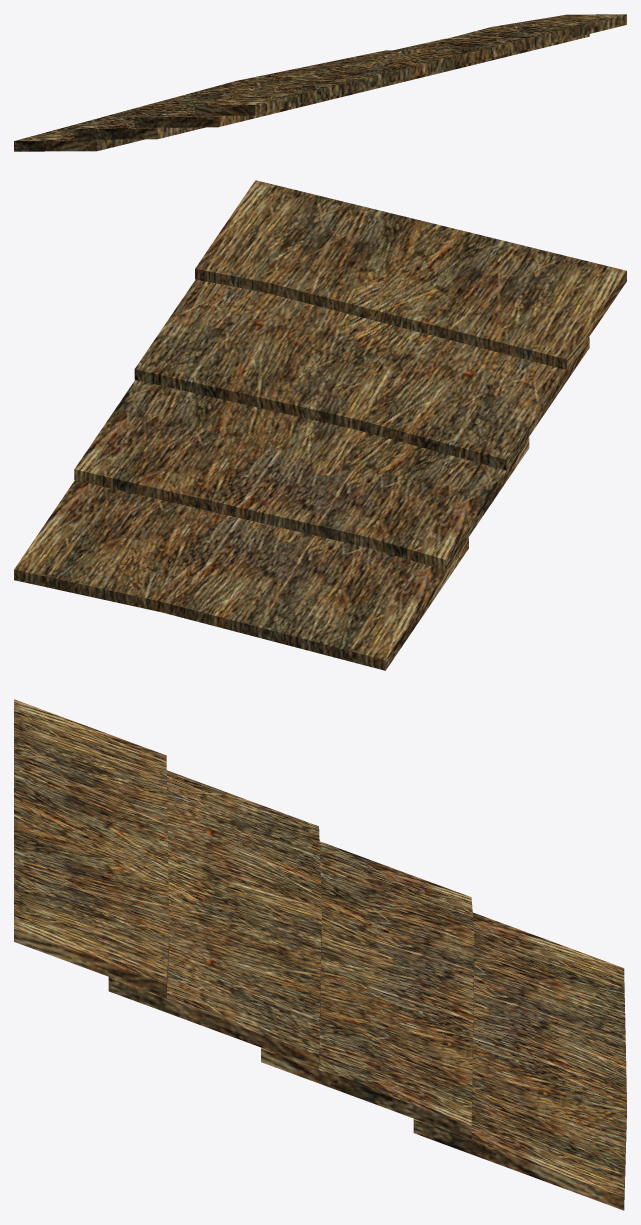
Rendered from construction_wood_roof_solid_mesh.fbx.
3 renders of one model, top to bottom at view 1: azimuth 30°, elevation 25°; view 2: azimuth 150°, elevation 25°; view 3: azimuth 270°, elevation 25°, orthographic. The views are drawn at different scales.
Visible parts, largest first — view 1: construction_wood_roof_solid_mesh; view 2: construction_wood_roof_solid_mesh; view 3: construction_wood_roof_solid_mesh.
Boxes of the visible parts, x1,y1,x2,y2 form: construction_wood_roof_solid_mesh: (14,14,626,151); construction_wood_roof_solid_mesh: (14,180,626,670); construction_wood_roof_solid_mesh: (14,699,626,1210).
Size of the model in its own units: 300 by 172 by 339.
